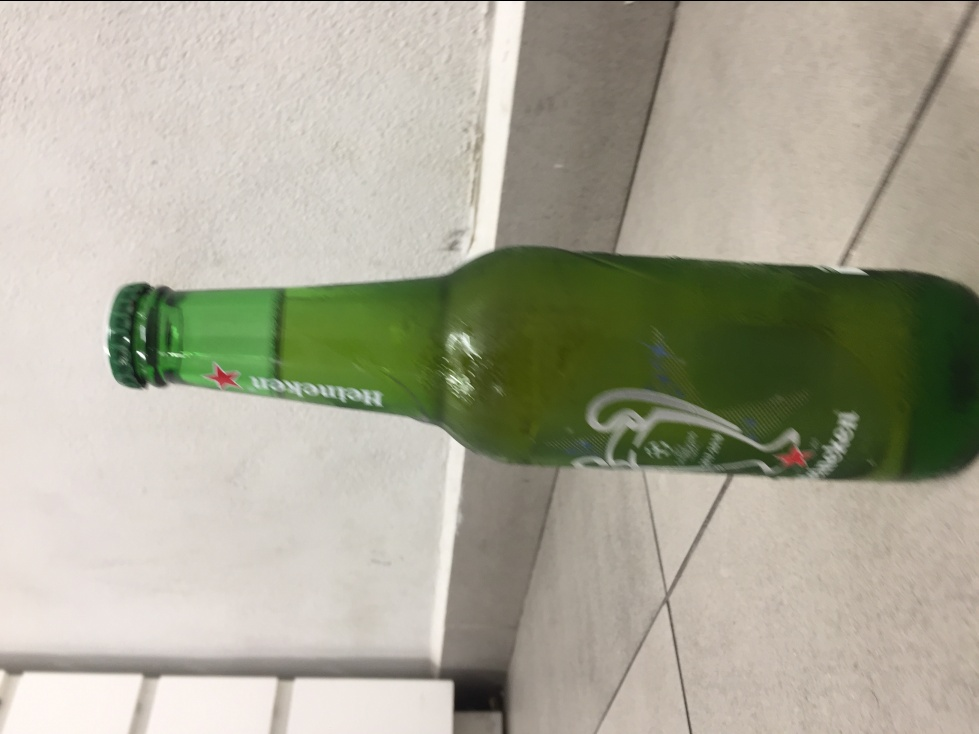heineken: (107, 242, 979, 483)
